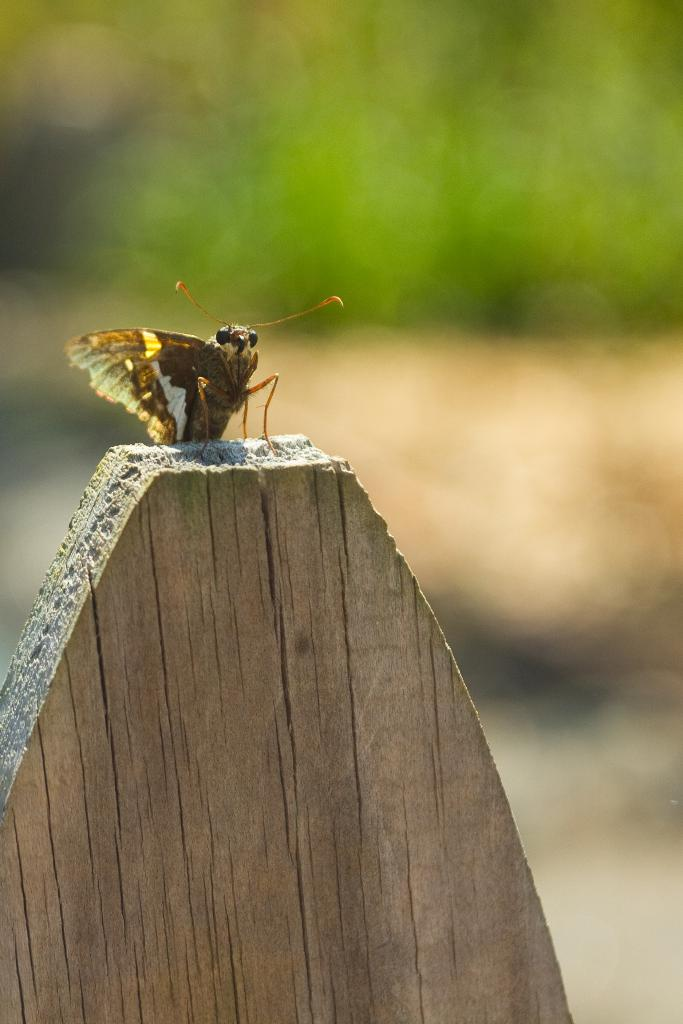Butterfly: (72, 279, 315, 456)
